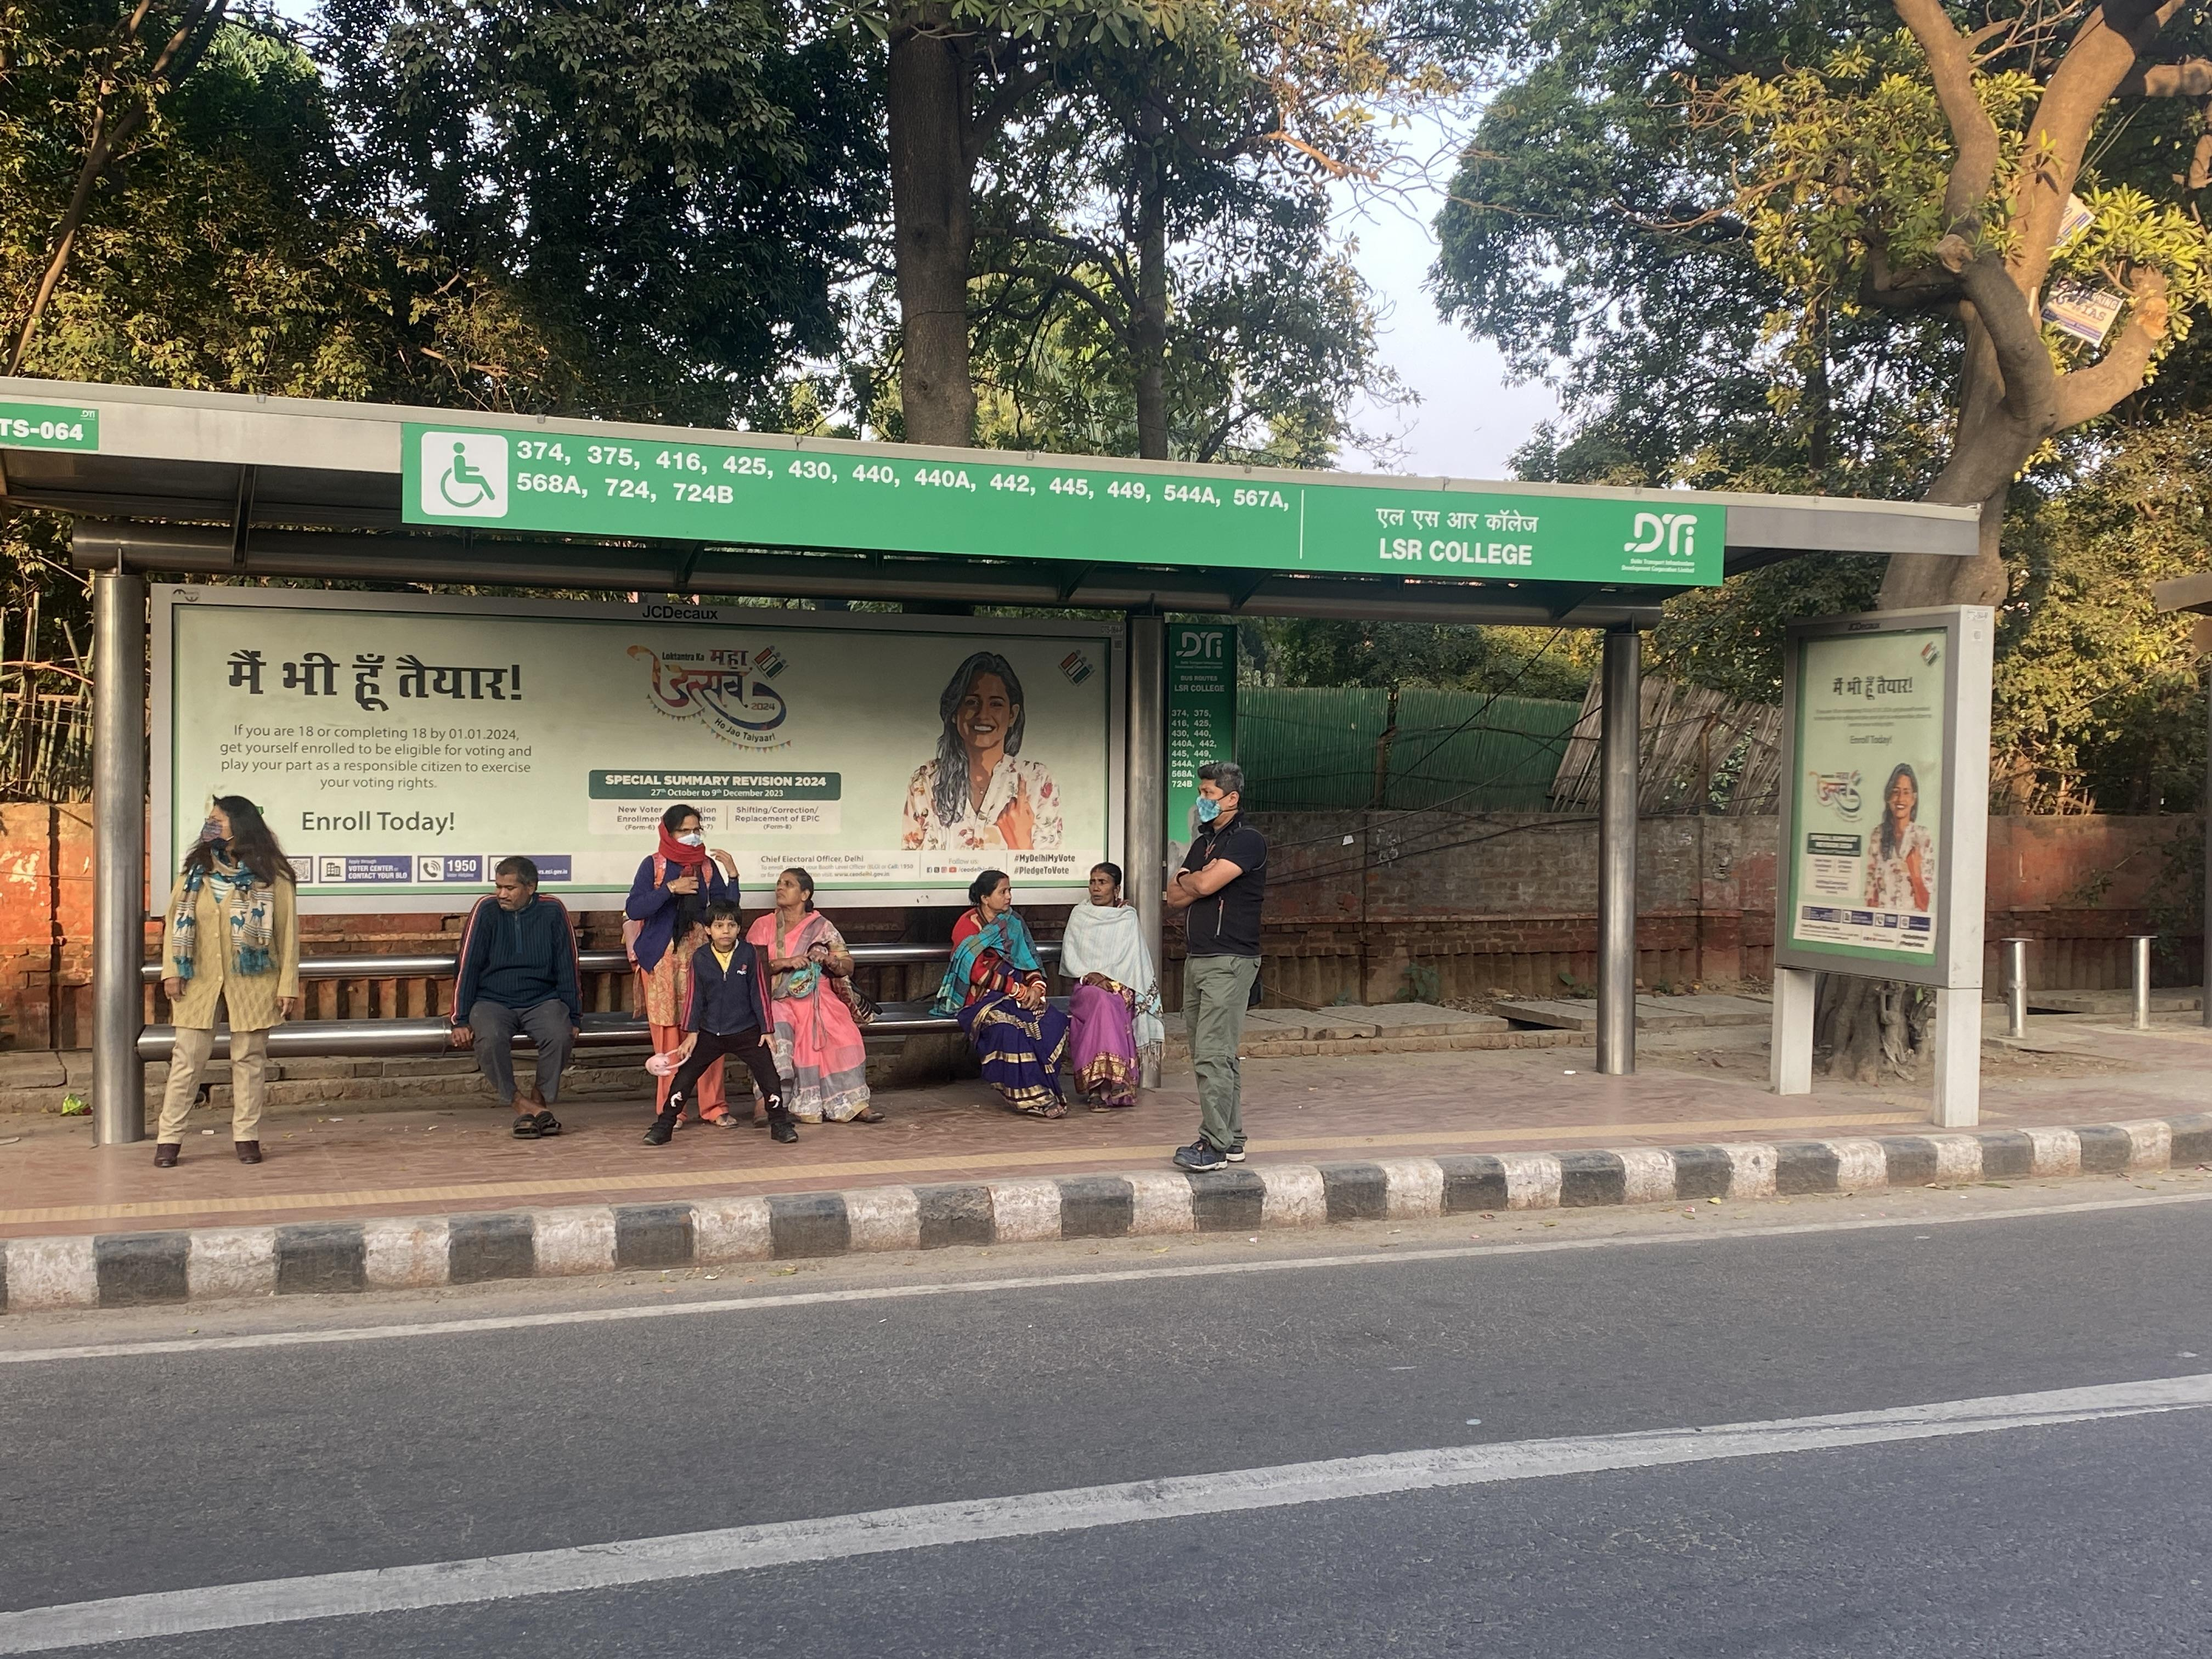Bus-stop-board: (357, 406, 1745, 615)
